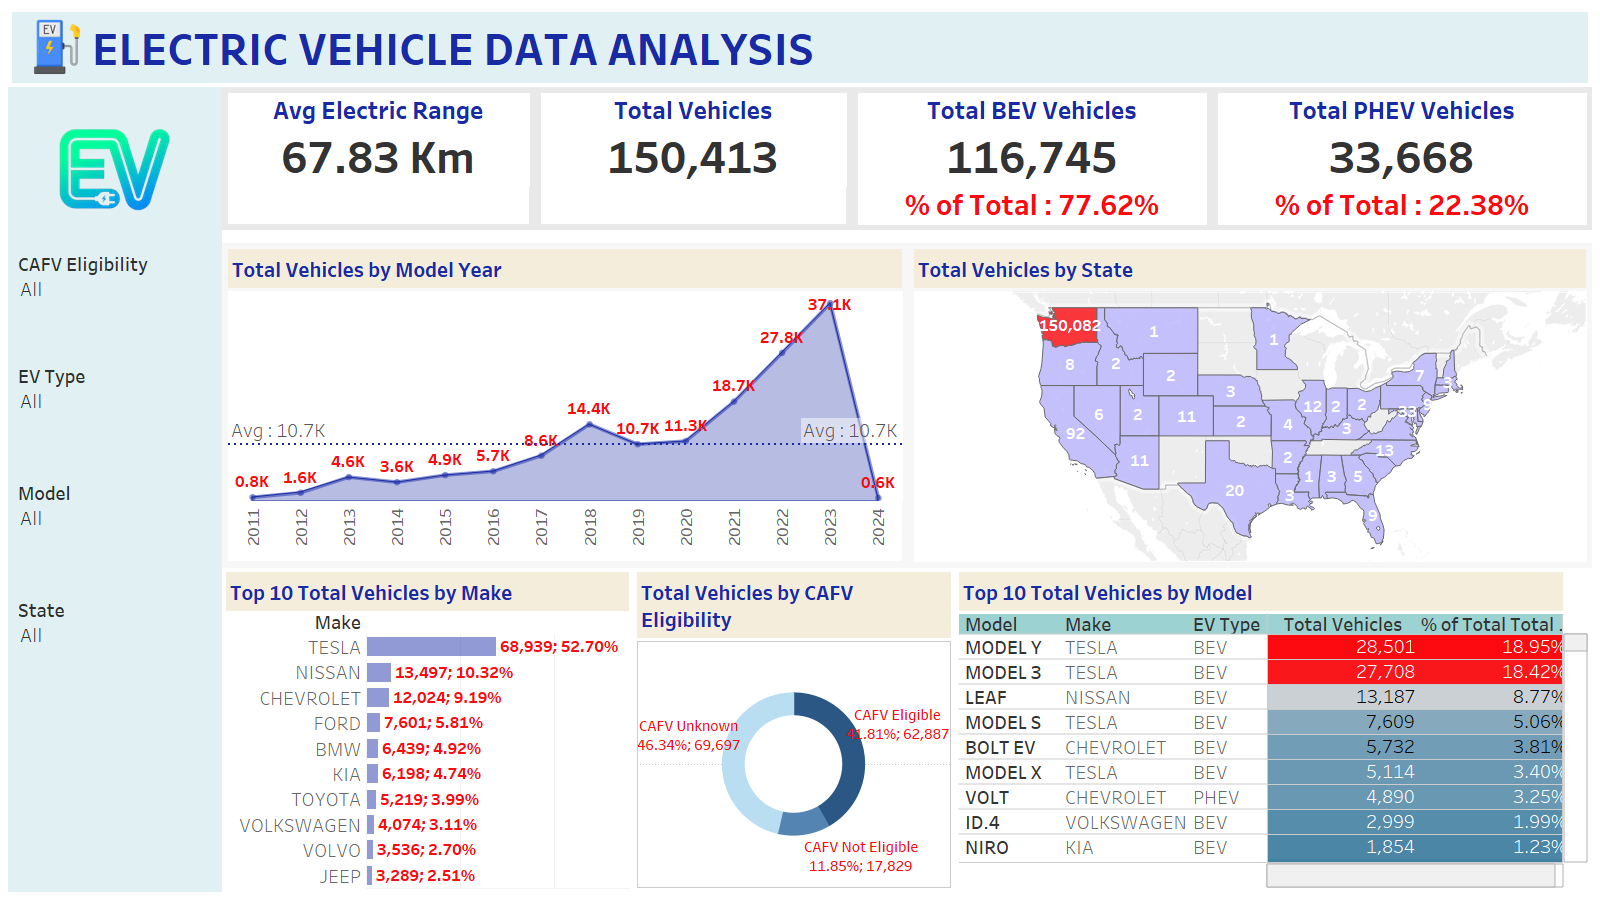

Layout of this report page (visuals, bound fields, positions):
{"tool":"tableau","page":{"name":"ELECTRIC VEHICLE DATA ANALYSIS","canvas":[1600,900],"ordinal":0},"visuals":[{"type":"title","box":[8,8,1584,79]},{"type":"image","param":"C:/Users/Asus/Desktop/Official Documents/Projects/EV Vehicle DA/Images & PS/flat","box":[23,18,68,57]},{"type":"worksheet","title":"Avg Electric Range","mark":"Automatic","box":[221.5,87,313,143]},{"type":"worksheet","title":"Total Vehicles","mark":"Automatic","box":[534.5,87,317,143]},{"type":"worksheet","title":"Total BEV Vehicles","mark":"Automatic","box":[851.6,87,360,143]},{"type":"worksheet","title":"Total PHEV Vehicles","mark":"Automatic","box":[1211.6,87,380.4,143]},{"type":"image","param":"C:/Users/Asus/Desktop/Official Documents/Projects/EV Vehicle DA/Images & PS/blue","box":[14,93,201.5,153]},{"type":"worksheet","title":"Total Vehicles by Model Year","mark":"Area","rows":["Calculation_162692549890547712","Calculation_162692549890547712"],"cols":["Model Year"],"box":[221.5,243.1,686,324.4]},{"type":"worksheet","title":"Total Vehicles by State","mark":"Multipolygon","box":[907.5,243.1,684.5,324.4]},{"type":"filter","title":"Total Vehicles by Model Year","param":"[federated.134502s17jdqzt1ateccx0lpcgvj].[none:Clean Alternative Fuel Vehicle (C","box":[14,246,201.5,70]},{"type":"blank","box":[14,316,201.5,42]},{"type":"filter","title":"Total Vehicles by Model Year","param":"[federated.134502s17jdqzt1ateccx0lpcgvj].[none:Electric Vehicle Type:nk]","box":[14,358,201.5,70]},{"type":"blank","box":[14,428,201.5,47]},{"type":"filter","title":"Total Vehicles by Model Year","param":"[federated.134502s17jdqzt1ateccx0lpcgvj].[none:Model:nk]","box":[14,475,201.5,70]},{"type":"blank","box":[14,545,201.5,47]},{"type":"worksheet","title":"Top 10 Total Vehicles by Make","mark":"Automatic","rows":["Make"],"cols":["Calculation_162692549890547712"],"box":[221.5,567.5,411,324.5]},{"type":"worksheet","title":"Total Vehicles by CAFV Eligibility","mark":"Pie","rows":["Calculation_162692549911539719","Calculation_162692549911539719"],"box":[632.5,567.5,322.4,324.5]},{"type":"worksheet","title":"Top 10 Total Vehicles by Model","mark":"Square","rows":["Model","Make","Electric Vehicle Type"],"box":[955,567.5,637,324.5]},{"type":"filter","title":"Total Vehicles by Model Year","param":"[federated.134502s17jdqzt1ateccx0lpcgvj].[none:State:nk]","box":[14,592,201.5,70]},{"type":"blank","box":[14,662,201.5,89]},{"type":"blank","box":[14,751,201.5,135]}]}

Visuals, with their boxes in screenshot pixels (x1, y1, x2, y2), scaled from the page's 1600x900 canvas onto the 1600x900 screenshot:
title: (8,8,1592,87)
image: (23,18,91,75)
"Avg Electric Range" worksheet: (222,87,534,230)
"Total Vehicles" worksheet: (534,87,852,230)
"Total BEV Vehicles" worksheet: (852,87,1212,230)
"Total PHEV Vehicles" worksheet: (1212,87,1592,230)
image: (14,93,216,246)
"Total Vehicles by Model Year" worksheet (Area marks): (222,243,908,568)
"Total Vehicles by State" worksheet (Multipolygon marks): (908,243,1592,568)
"Total Vehicles by Model Year" filter: (14,246,216,316)
blank: (14,316,216,358)
"Total Vehicles by Model Year" filter: (14,358,216,428)
blank: (14,428,216,475)
"Total Vehicles by Model Year" filter: (14,475,216,545)
blank: (14,545,216,592)
"Top 10 Total Vehicles by Make" worksheet: (222,568,632,892)
"Total Vehicles by CAFV Eligibility" worksheet (Pie marks): (632,568,955,892)
"Top 10 Total Vehicles by Model" worksheet (Square marks): (955,568,1592,892)
"Total Vehicles by Model Year" filter: (14,592,216,662)
blank: (14,662,216,751)
blank: (14,751,216,886)
